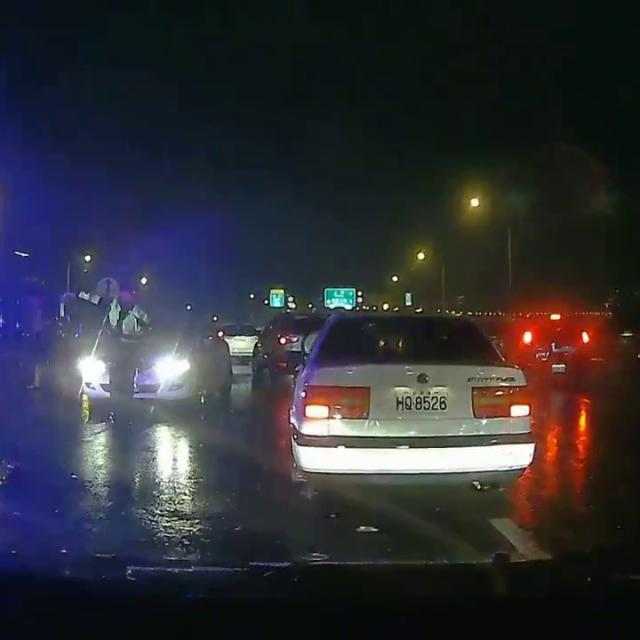Car: (281, 307, 531, 489), (76, 316, 231, 414), (251, 306, 325, 386), (105, 288, 144, 416), (214, 314, 255, 366)
